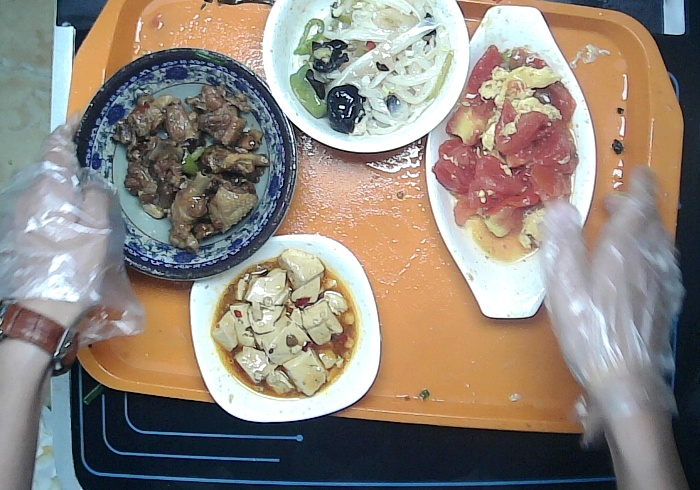ZNLD-Qing_Hua_Wan: (69, 44, 301, 285)
ZNLD-Si_Fang_Wan: (184, 230, 385, 425)
ZNLD-Tang_Wan: (259, 1, 471, 156)
ZNLD-Yu_Pan: (423, 1, 597, 322)
